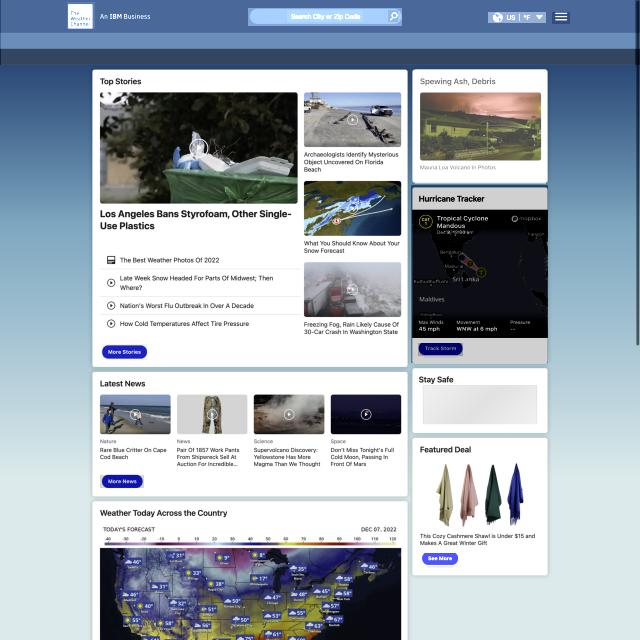CheckBox: (103, 344, 147, 360), (418, 343, 463, 358), (100, 475, 144, 488), (421, 554, 459, 568)
CheckedTextView: (248, 7, 402, 26)
Spinner: (411, 185, 548, 363), (415, 69, 546, 184)
alert: (488, 12, 546, 23)
bag: (1, 0, 635, 65)
carousel: (388, 10, 398, 22)
data feed: (287, 10, 363, 22)
date picker: (67, 2, 95, 29)
decoration: (552, 12, 570, 24)
